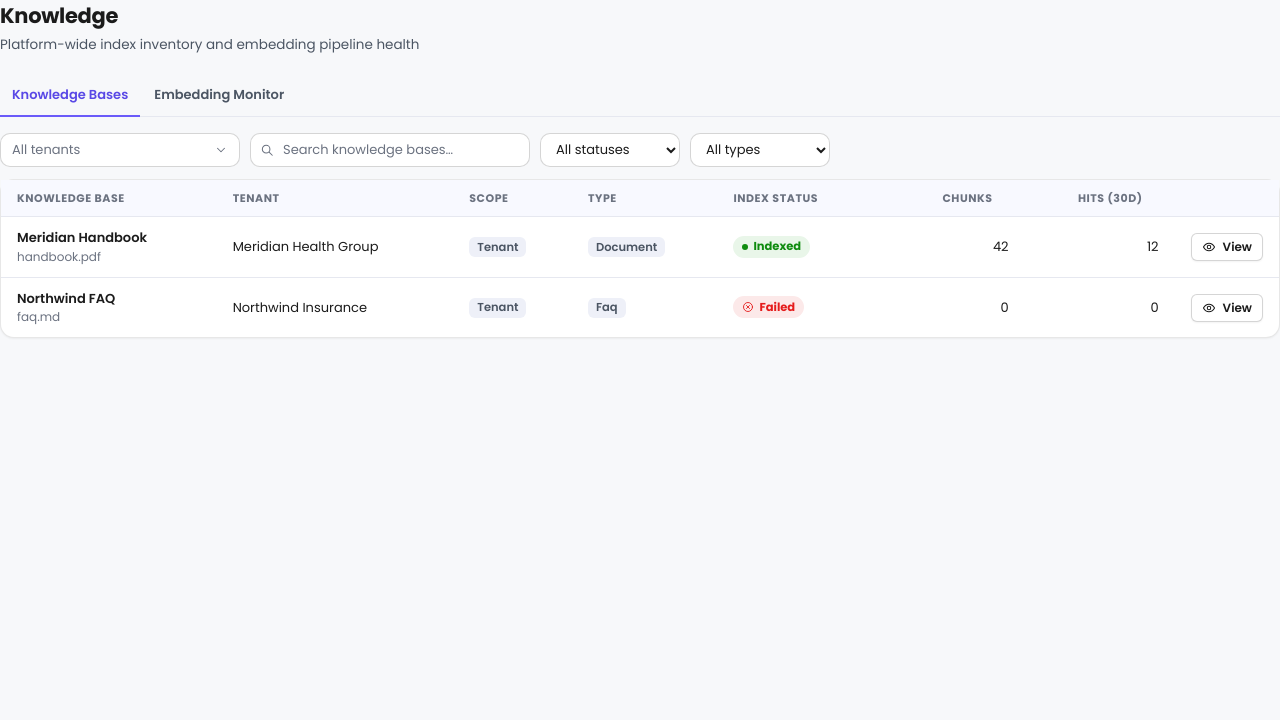
Test: KnowledgeAdmin — filters and View › View opens the knowledge detail drawer with full information
Check: the text "Meridian Handbook" is shown, box [17,228,147,247]
What coordinates should you click on to do the following:
click the button "View" in the row of "Meridian Handbook"
I would click on:
 (1227, 247)
Its box is [1191,233,1263,261].
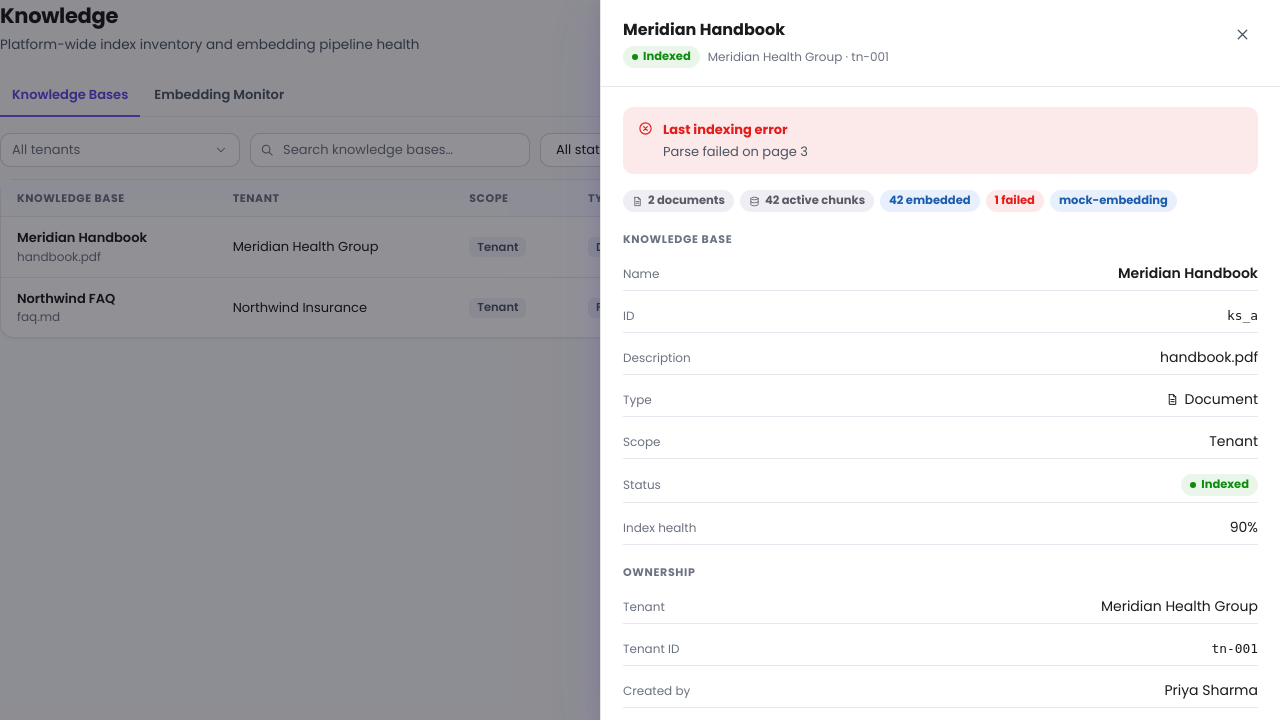
Check: the text "ks_a" is shown, box [1227,308,1258,323]
Check: the text "Meridian Health Group" is shown, box [1101,596,1258,617]
Check: the text "tn-001" is shown, box [1212,641,1258,656]
